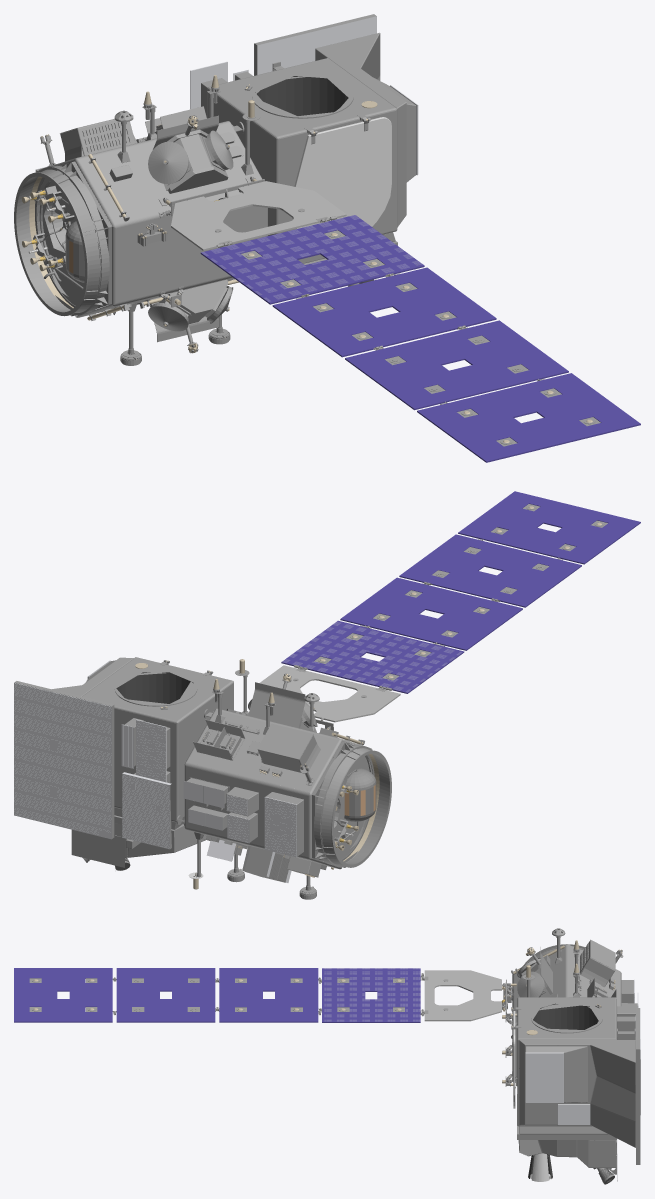
Rendered from icesat2.glb.
The picture shows the model from 3 angles, top to bottom: view 1: azimuth 30°, elevation 25°; view 2: azimuth 150°, elevation 25°; view 3: azimuth 270°, elevation 25°; orthographic projection. The views are drawn at different scales.
Parts seen in each view (by area): view 1: MainBus; view 2: MainBus; view 3: MainBus.
Boxes of the visible parts, bbox=[...] form: MainBus: bbox=[14, 14, 640, 462]; MainBus: bbox=[14, 491, 640, 899]; MainBus: bbox=[14, 928, 640, 1184].
Size of the model in its own units: 4.95 by 3.15 by 10.
